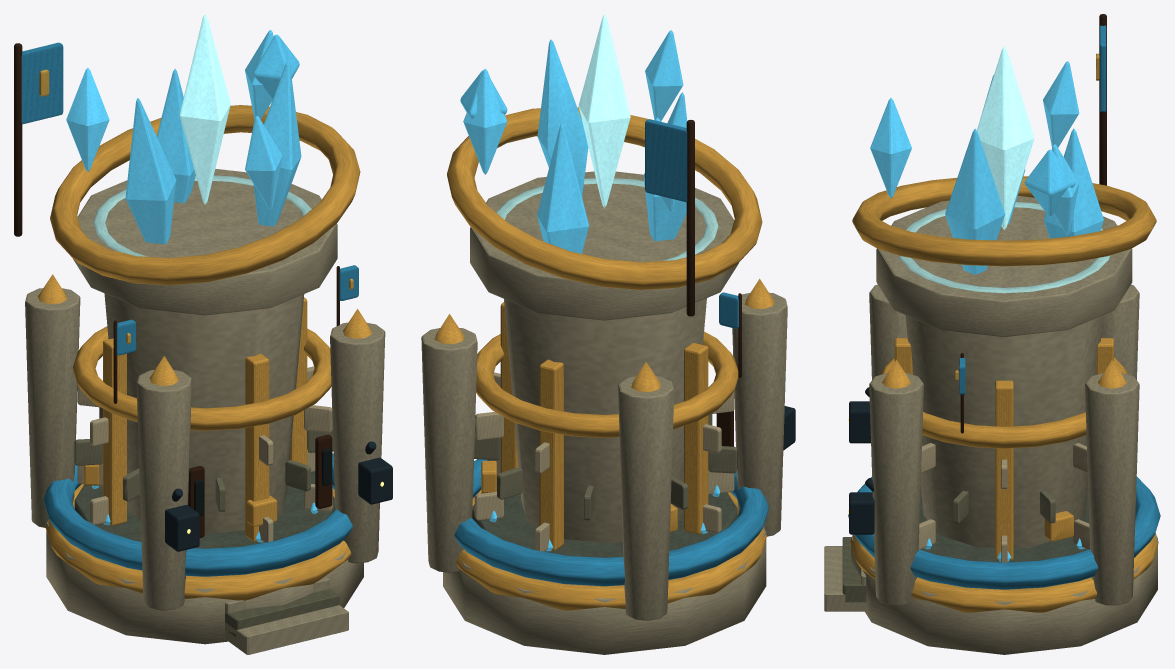
The model's file is tower-frost-3-0.glb.
3 renders of one model, left to right at view 1: azimuth 30°, elevation 25°; view 2: azimuth 150°, elevation 25°; view 3: azimuth 270°, elevation 25°, orthographic. The views are drawn at different scales.
Visible parts, largest first — view 1: Foundation, Turret, frost-L3-0; view 2: Foundation, Turret, frost-L3-0; view 3: Foundation, Turret, frost-L3-0.
Part boxes in pixels (left/top/right/bottom): Foundation: left=14, top=42, right=392, bottom=654; Turret: left=50, top=14, right=360, bottom=315; frost-L3-0: left=46, top=471, right=363, bottom=644; Foundation: left=421, top=119, right=795, bottom=620; Turret: left=447, top=14, right=762, bottom=320; frost-L3-0: left=443, top=492, right=766, bottom=654; Foundation: left=824, top=14, right=1160, bottom=612; Turret: left=852, top=46, right=1156, bottom=336; frost-L3-0: left=851, top=485, right=1157, bottom=654.
Size of the model in its own units: 1.71 by 3.29 by 1.84.
19 materials, 19 textured.
